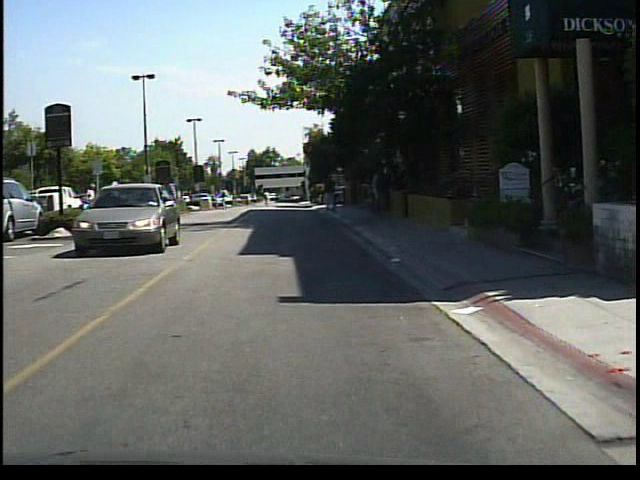person: (372, 162, 394, 224), (109, 178, 131, 230), (322, 170, 343, 219), (164, 174, 183, 221), (84, 183, 101, 226), (219, 188, 233, 214), (262, 191, 271, 211)
